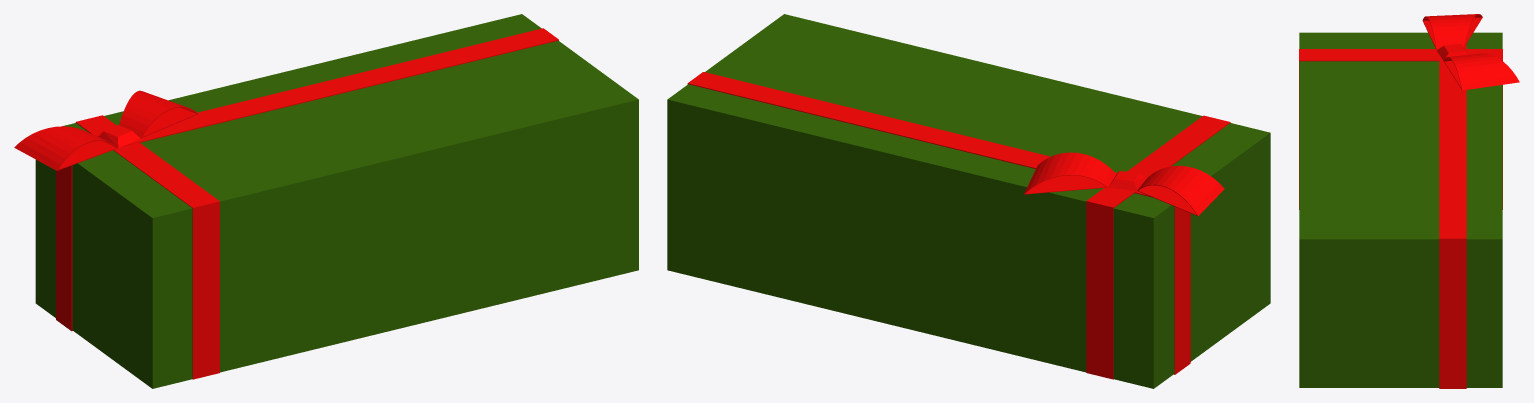
File: Prop_Christmas_Present_Green_03.FBX
3 renders of one model, left to right at view 1: azimuth 30°, elevation 25°; view 2: azimuth 150°, elevation 25°; view 3: azimuth 270°, elevation 25°, orthographic. The views are drawn at different scales.
Visible parts, largest first — view 1: Prop_Christmas_Present_Green_03; view 2: Prop_Christmas_Present_Green_03; view 3: Prop_Christmas_Present_Green_03.
Boxes of the visible parts, box(x1,y1,x2,y2) form: Prop_Christmas_Present_Green_03: box(14, 14, 638, 388); Prop_Christmas_Present_Green_03: box(667, 14, 1270, 388); Prop_Christmas_Present_Green_03: box(1299, 14, 1519, 388).
Bounding box in the file's own units: 852 × 298 × 360.
